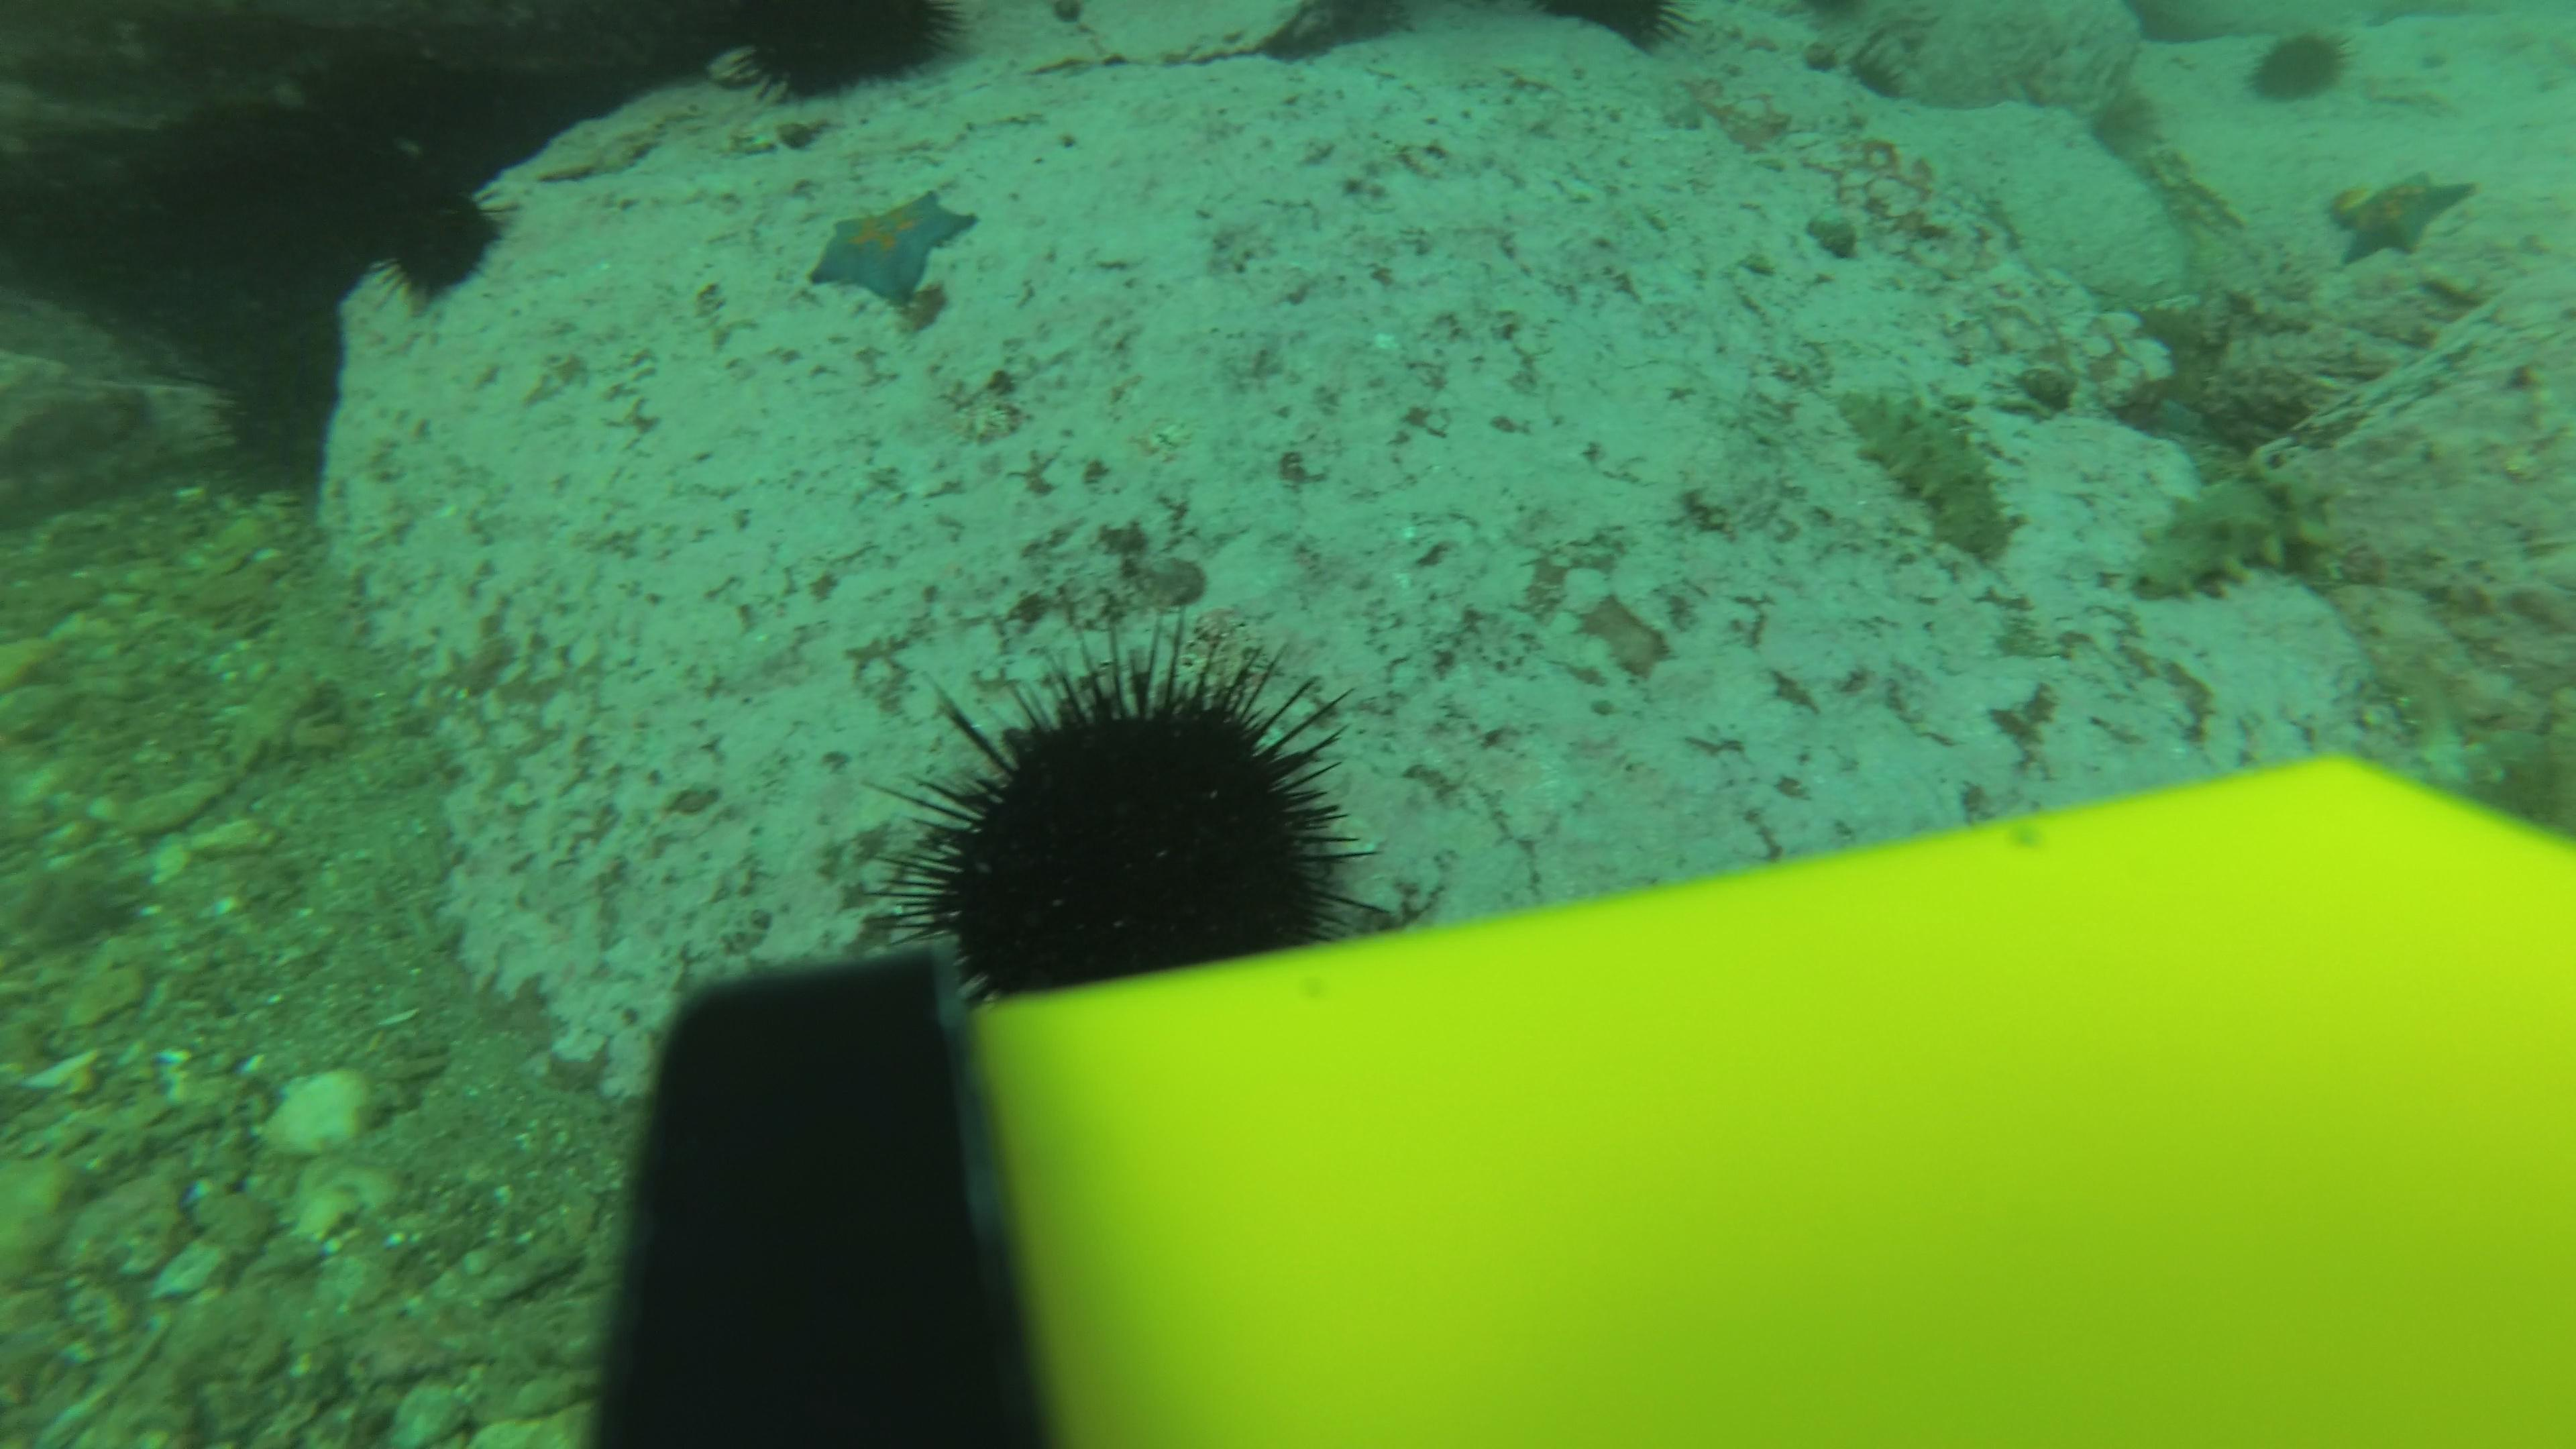urchin: (893, 642, 1366, 980), (708, 0, 961, 101), (354, 184, 510, 294), (1568, 0, 1697, 81)
